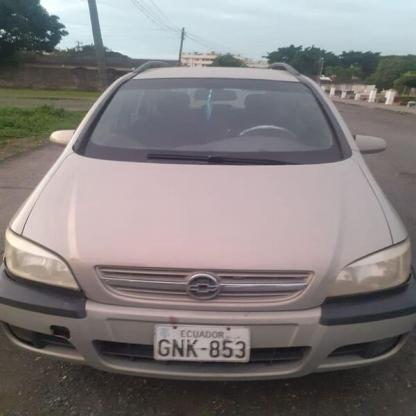Placa: (154, 320, 252, 364)
